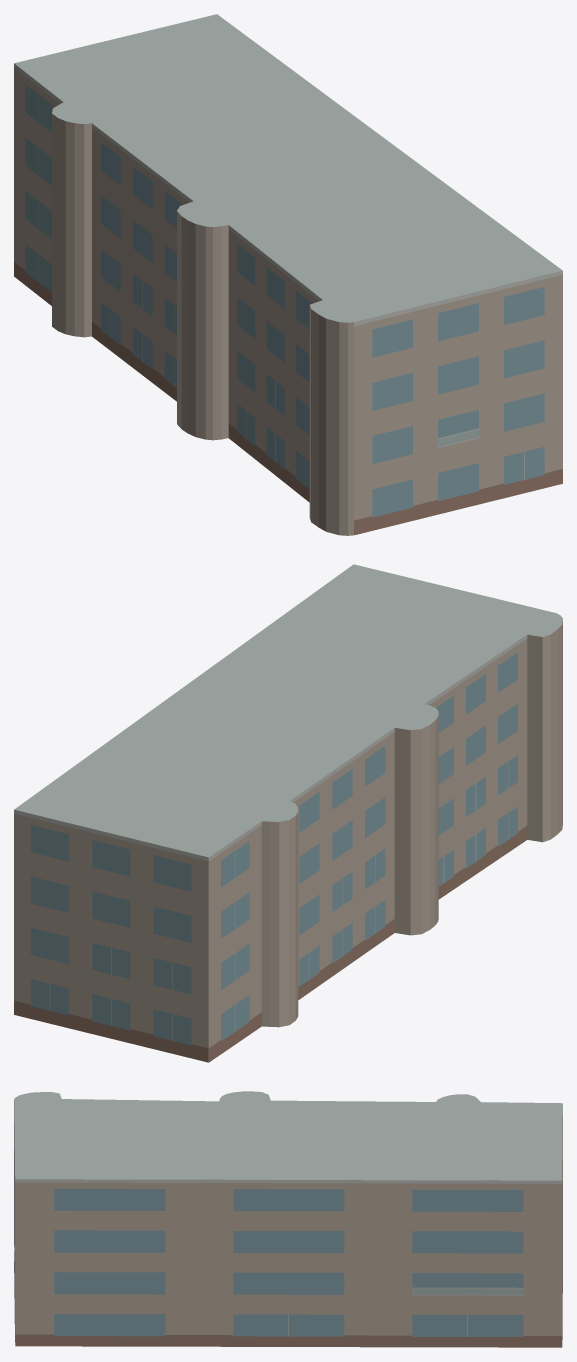
The model's file is survey-upis-32877381.glb.
3 views of the same model, one above another, from view 1: azimuth 30°, elevation 25°; view 2: azimuth 150°, elevation 25°; view 3: azimuth 270°, elevation 25° (orthographic). The views are drawn at different scales.
Visible parts, largest first — view 1: survey-upis-32877381.tmp; view 2: survey-upis-32877381.tmp; view 3: survey-upis-32877381.tmp.
Boxes of the visible parts, left/top/right/bottom form: survey-upis-32877381.tmp: left=14, top=14, right=562, bottom=535; survey-upis-32877381.tmp: left=14, top=564, right=562, bottom=1062; survey-upis-32877381.tmp: left=14, top=1091, right=562, bottom=1347.
Bounding box in the file's own units: 14.48 × 12.6 × 37.55.
